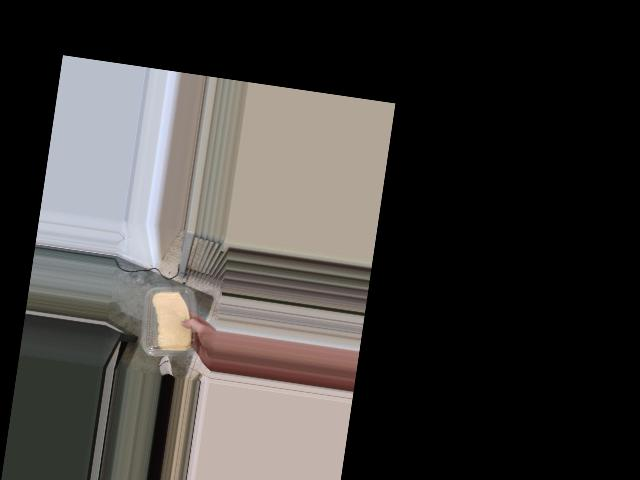cheese: (142, 283, 202, 360)
